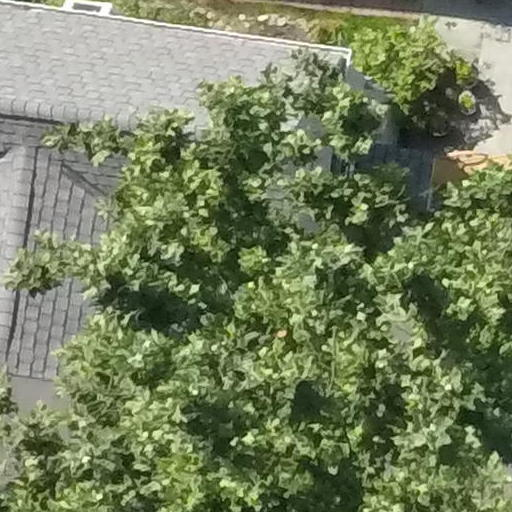flower pot: (447, 57, 481, 87), (424, 106, 452, 140), (456, 88, 483, 122)
